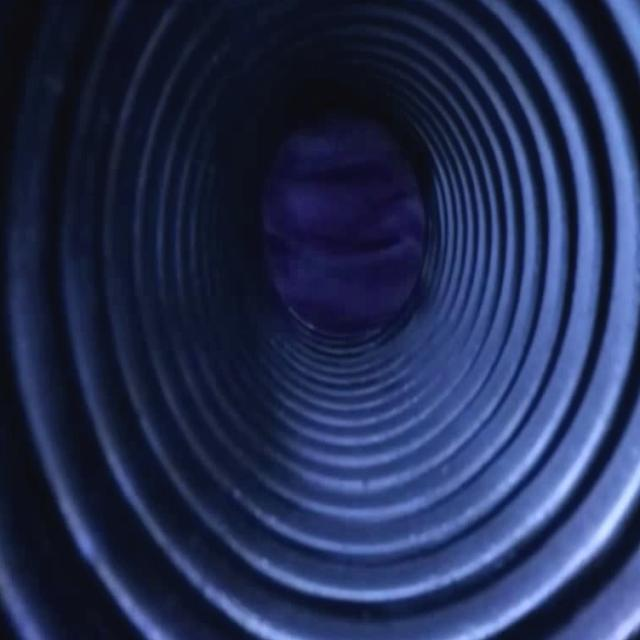block: (272, 131, 431, 336)
